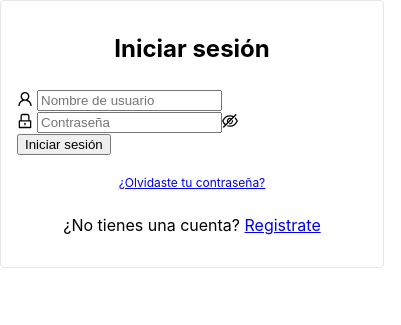
Test: Sign in form has validation errors › should display required errors when the submit button is pressed.
This screenshot has width=401, height=325.
Click the button "Iniciar sesión" at (64, 145), box [17, 134, 111, 155]
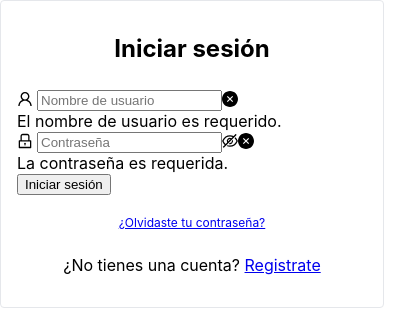
expect the text "El nombre de usuario es requerido." is shown: met, box [17, 111, 282, 131]
expect the text "La contraseña es requerida." is shown: met, box [17, 153, 228, 173]
